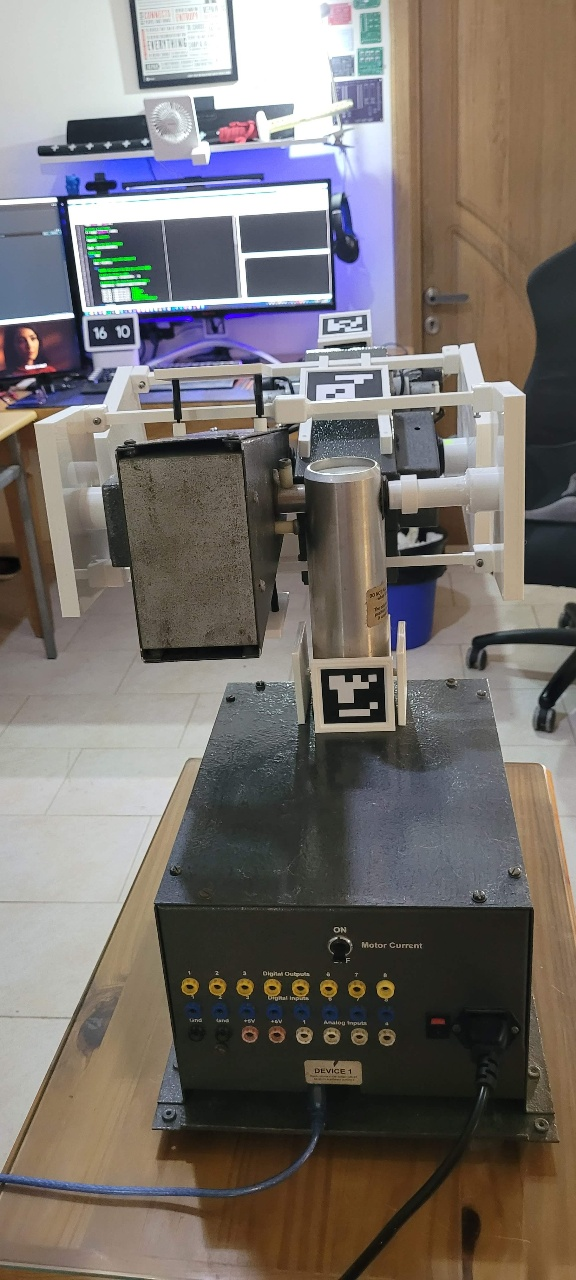Robot: (69, 257, 532, 1035)
